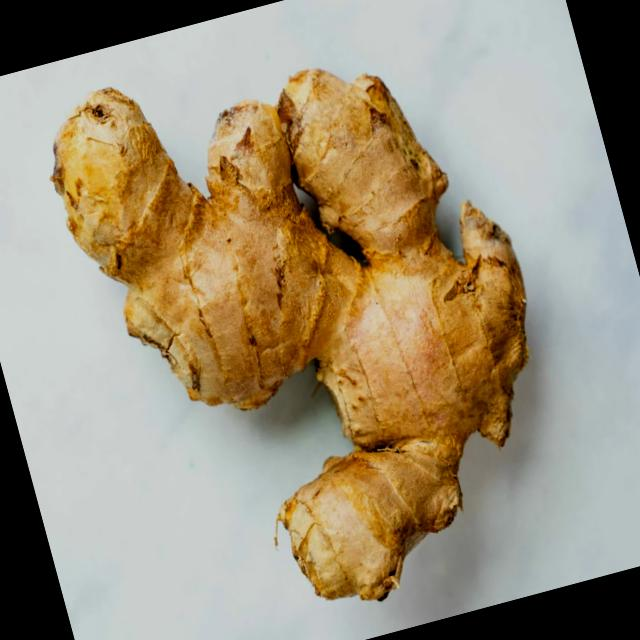ginger-root: (14, 0, 616, 640)
